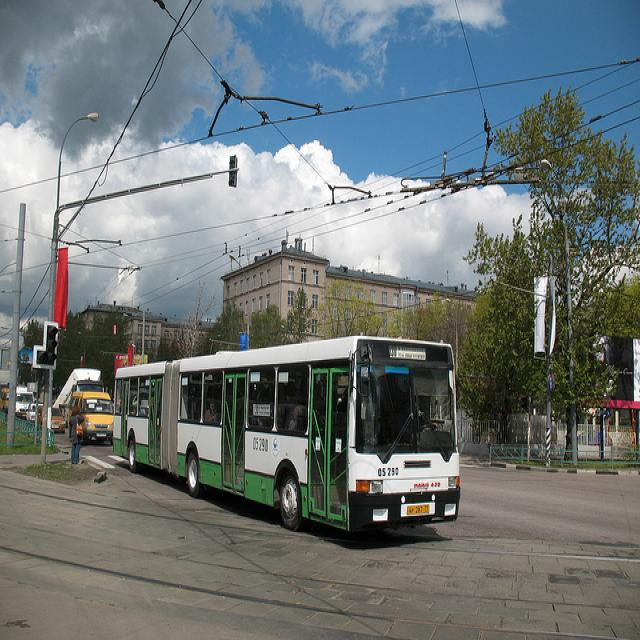Vehicle: (113, 337, 462, 534), (51, 369, 106, 416), (67, 391, 113, 446), (38, 406, 65, 433), (15, 386, 34, 418), (28, 403, 42, 422)
